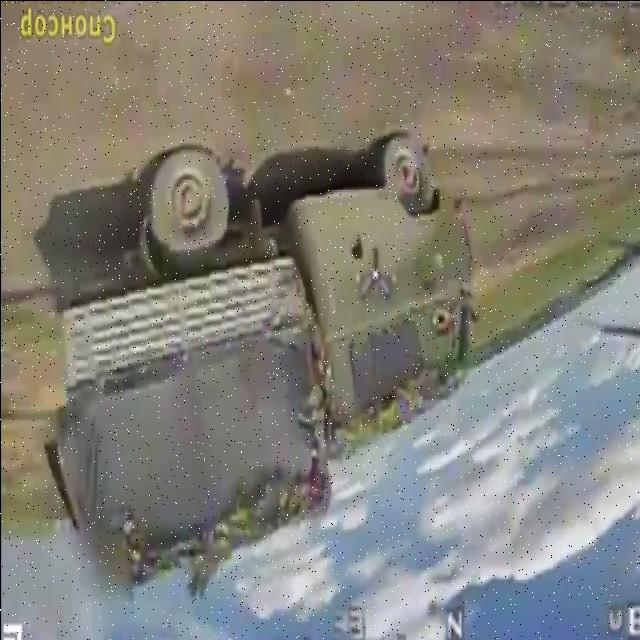TRUCK: (52, 122, 476, 608)
